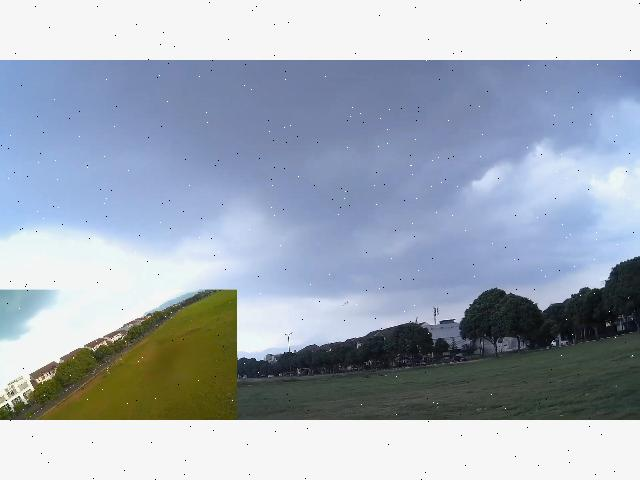Anti-Drone: (336, 296, 358, 316)
